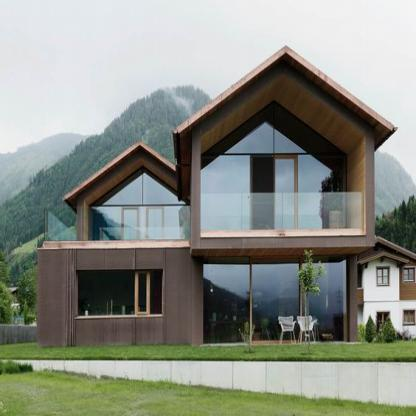Balcony: (202, 193, 362, 228), (44, 206, 190, 240)
Building Outline: (37, 45, 398, 347)
Door: (252, 156, 297, 229), (146, 208, 164, 240), (121, 208, 139, 240)
Facade: (36, 45, 398, 348)
Floor Slab: (201, 229, 363, 237), (44, 240, 190, 248)
Glass Wall: (203, 101, 346, 153), (252, 257, 300, 344), (204, 257, 250, 343), (302, 256, 347, 342), (89, 168, 190, 206), (201, 155, 250, 229), (298, 155, 346, 229), (89, 208, 121, 242), (165, 208, 190, 241)
Roof: (62, 45, 398, 214)
Window: (201, 74, 365, 230), (77, 269, 162, 316), (139, 208, 146, 241)
